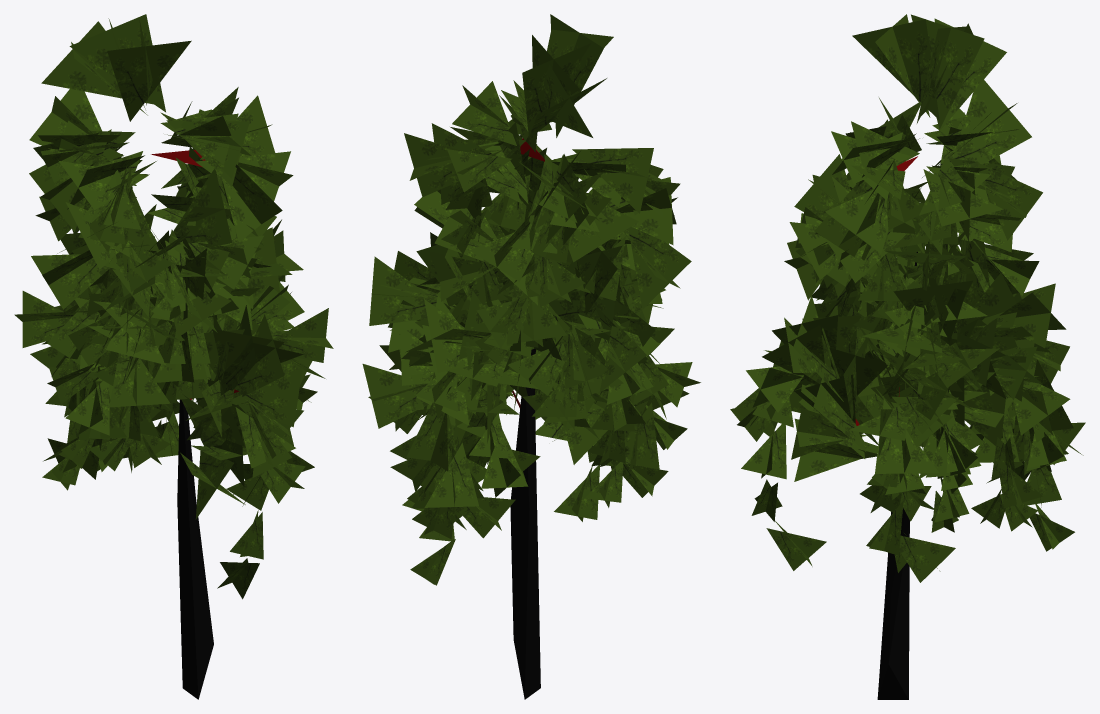
Rendered from birch 5 lod2.FBX.
3 renders of one model, left to right at view 1: azimuth 30°, elevation 25°; view 2: azimuth 150°, elevation 25°; view 3: azimuth 270°, elevation 25°, orthographic. The views are drawn at different scales.
Visible parts, largest first — view 1: birch5_LOD2; view 2: birch5_LOD2; view 3: birch5_LOD2.
Boxes of the visible parts, x1=… form: birch5_LOD2: x1=14, y1=14, x2=333, y2=699; birch5_LOD2: x1=362, y1=14, x2=700, y2=699; birch5_LOD2: x1=730, y1=14, x2=1085, y2=699.
Bounding box in the file's own units: 64070 × 139974 × 67986.
